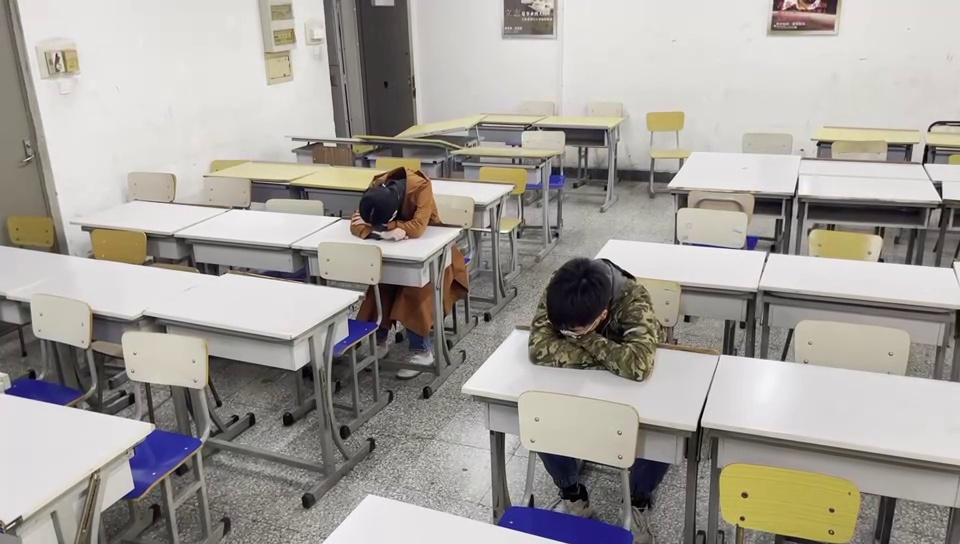sleep: (535, 261, 654, 369), (346, 174, 429, 239)
